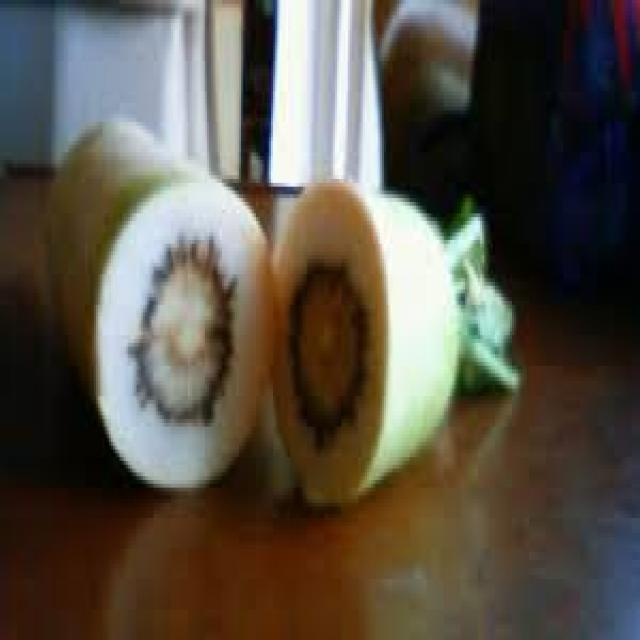organic waste: (42, 110, 268, 488), (271, 175, 518, 510)
